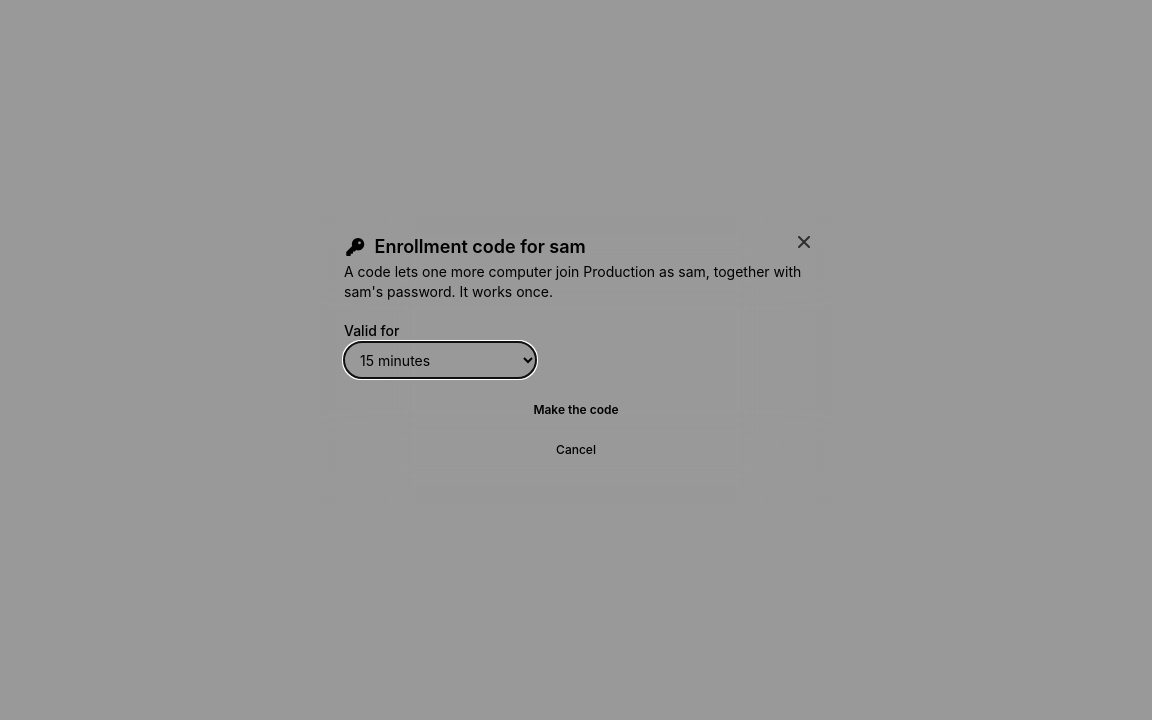
Test: EnrollmentCodeDialog › makes a code for as long as the Owner picked, and shows it once with its end
Expected: the text "together with sam's password" is shown, [344,262,808,302]
Select "1 hour" in the dropdown labelled "Valid for" at (440, 360), box [344,342,536,378]
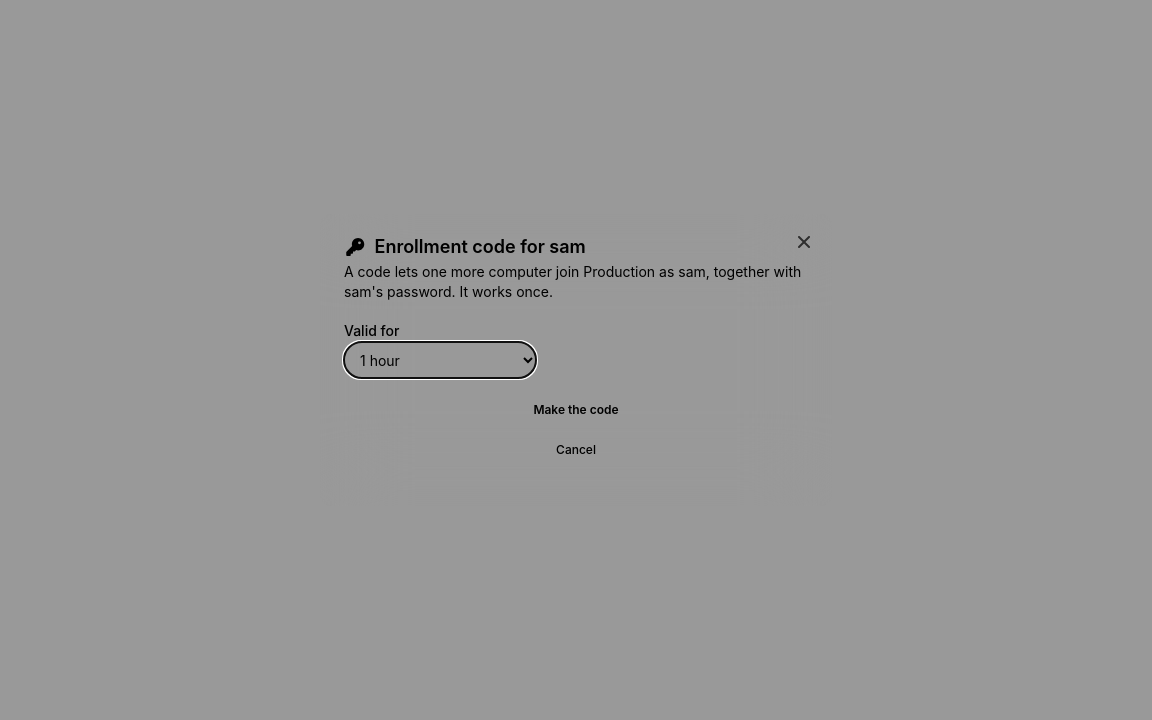
Click the button "Make the code".
click(576, 410)  # box [344,394,808,426]
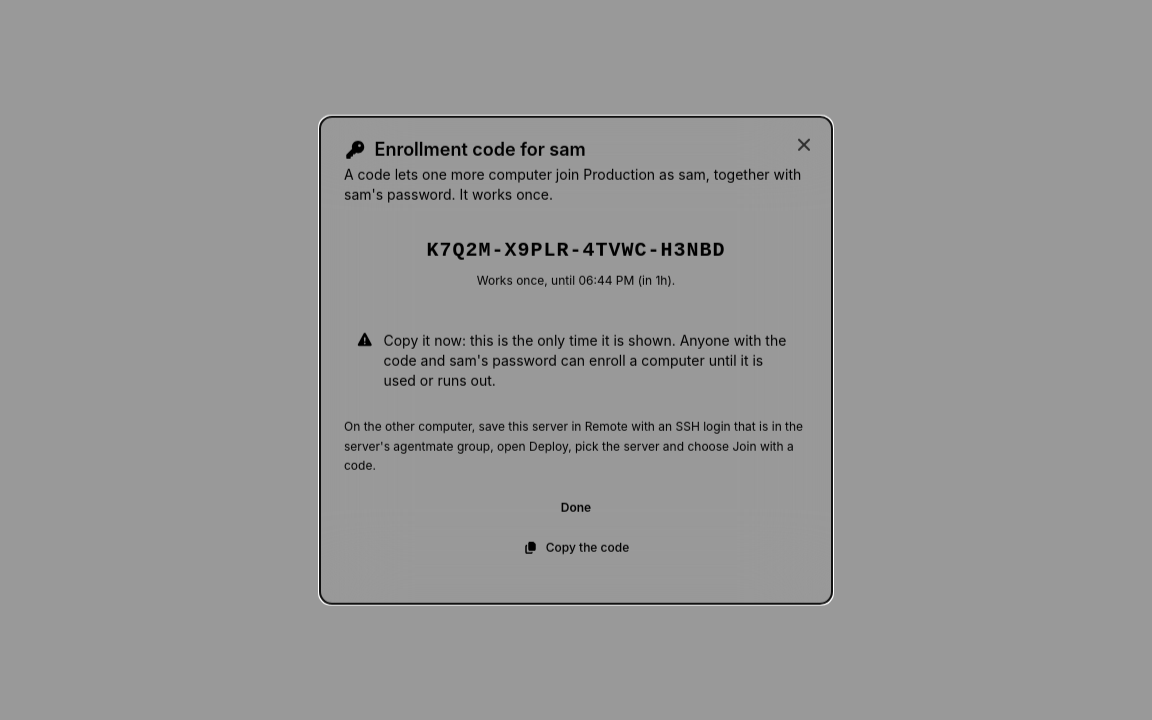
Expected: the text named "Enrollment code" reads "K7Q2M-X9PLR-4TVWC-H3NBD", [426,239,726,262]
Expected: the text "Works once, until 06:44 PM (in 1h)." is shown, [477,273,675,288]
Expected: the text "only time it is shown" is shown, [384,332,786,369]
